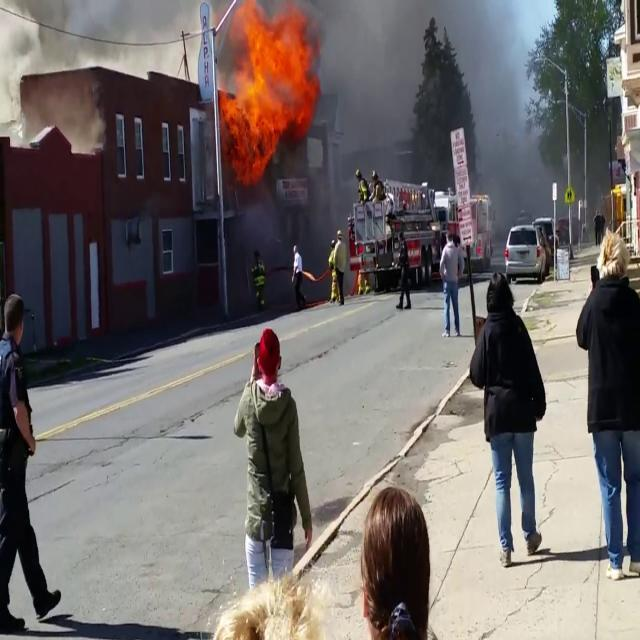Fire: (216, 1, 326, 183)
